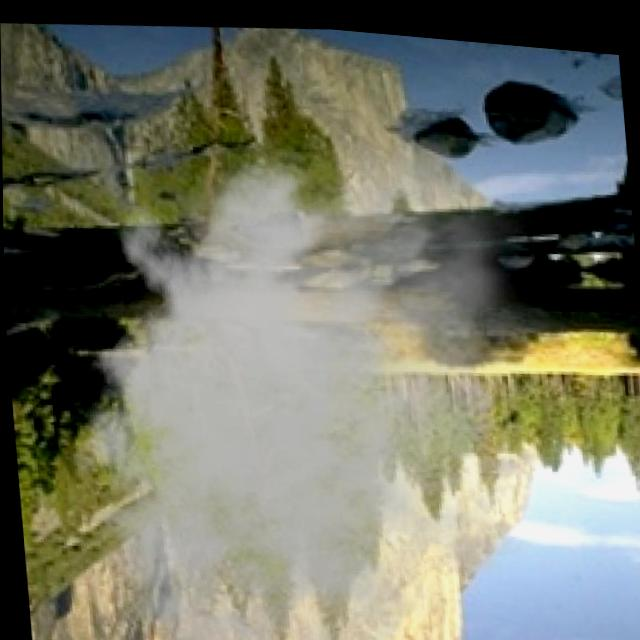no_helmet: (120, 266, 392, 542)
